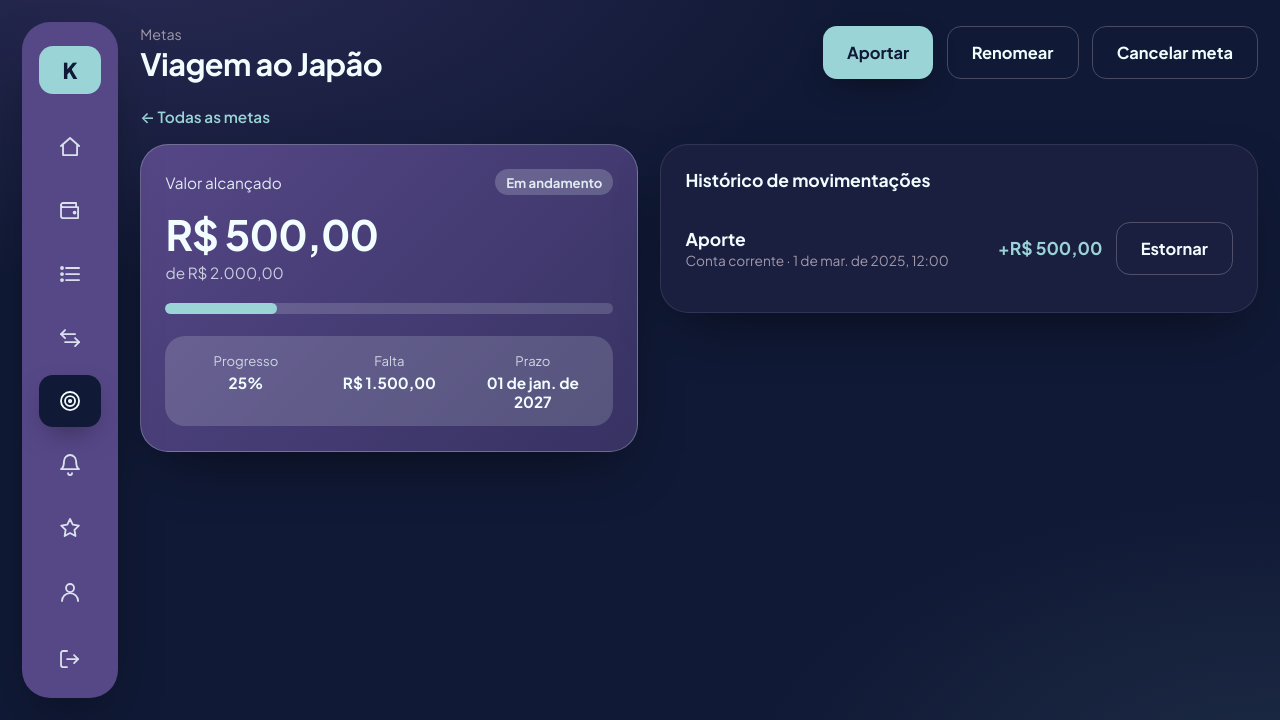
Test: metas: detalhe e aporte › exige carteira e valor
Click the button "Aportar". click: x=878, y=52
box: [823,26,933,79]
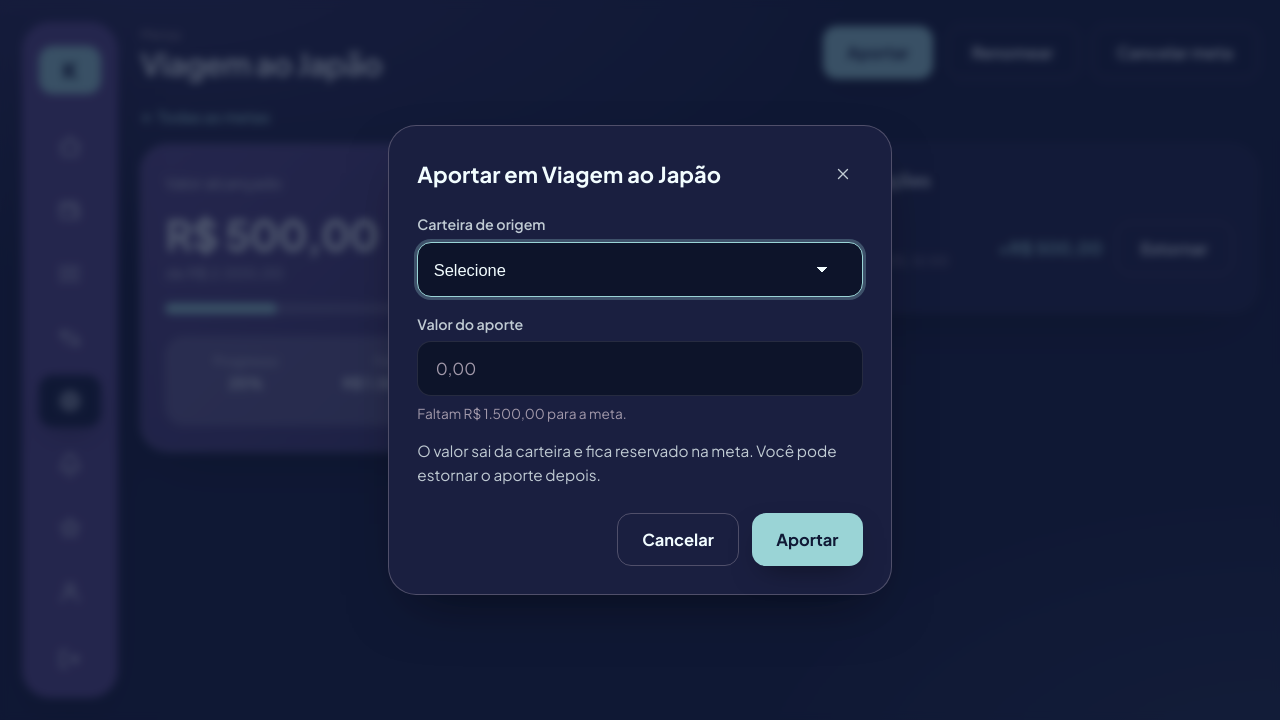
Click the button "Aportar". click: x=807, y=540
box: [752,513,863,566]
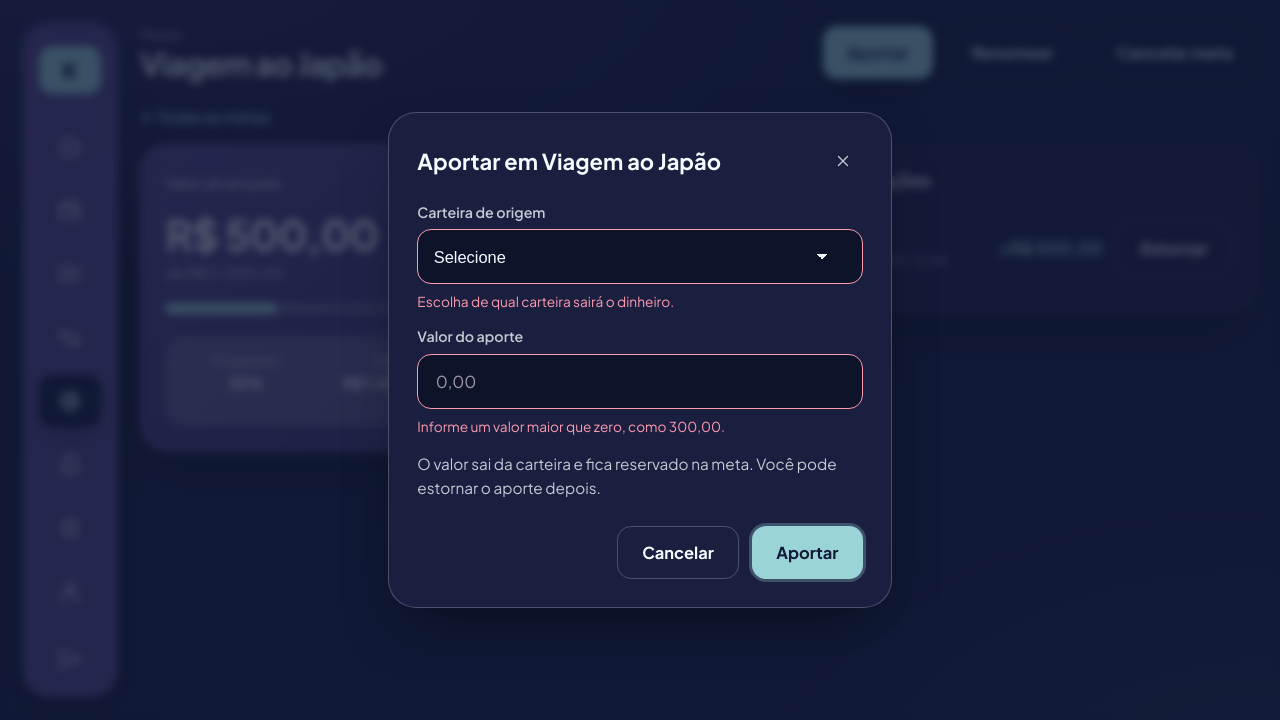
Expected: the text "Escolha de qual carteira sairá o dinheiro." is shown, [417,293,674,310]
Expected: the text "Informe um valor maior que zero, como 300,00." is shown, [417,418,725,435]
